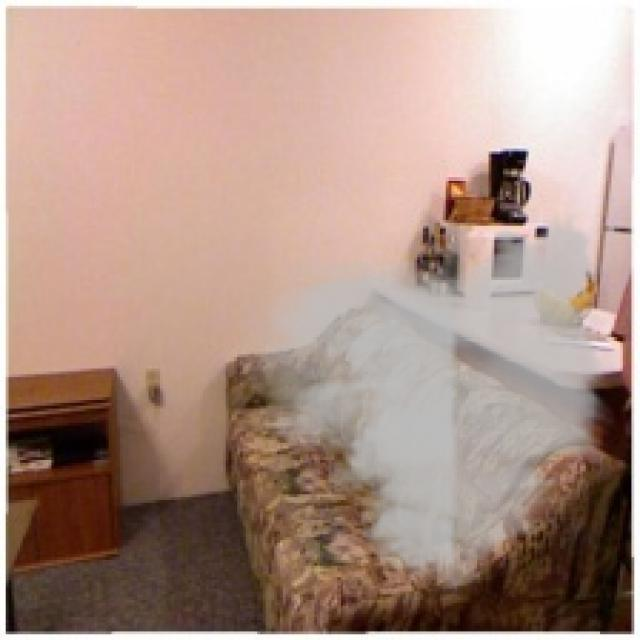Smoke: (240, 200, 620, 603)
